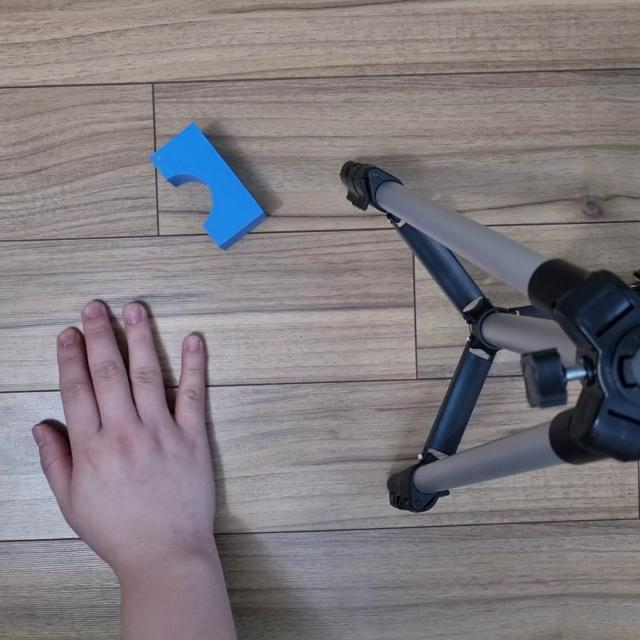block: (153, 118, 267, 252)
hand: (36, 298, 238, 558)
